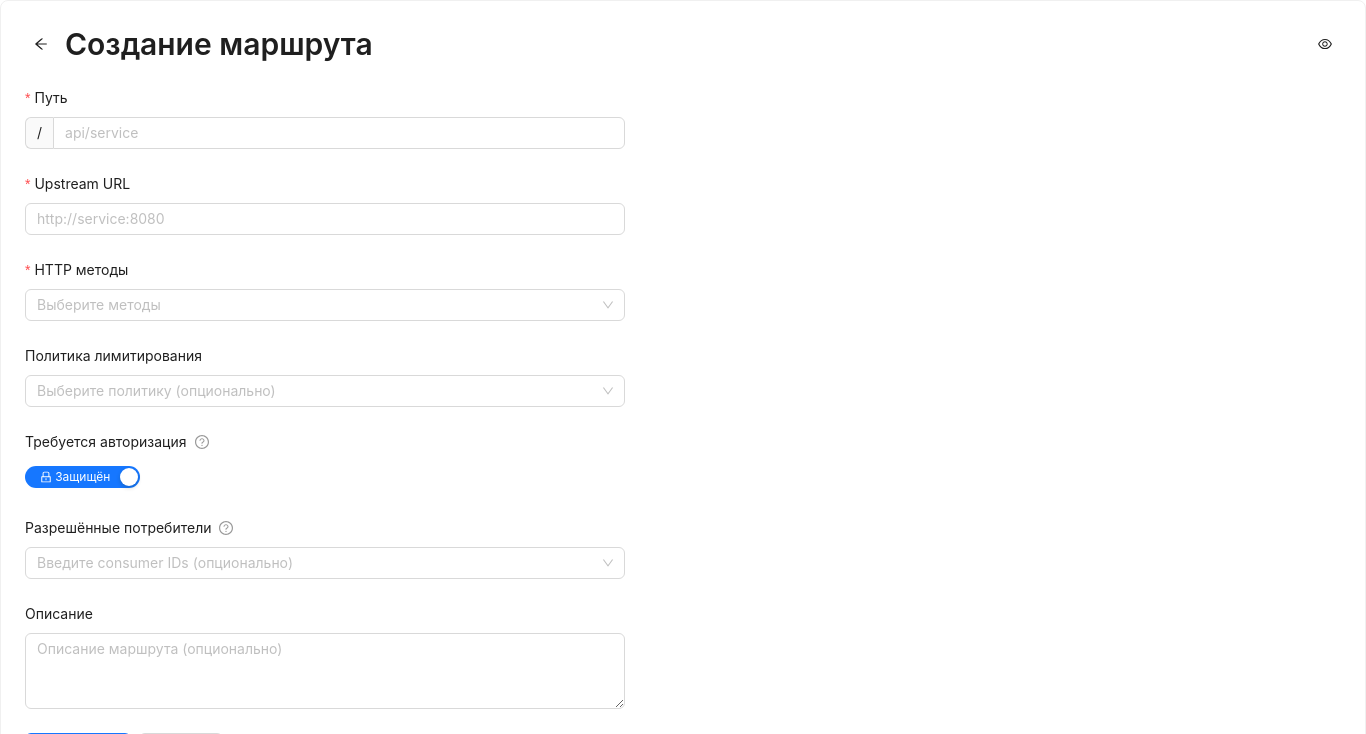
Test: RouteFormPage › валидация › показывает ошибку при невалидном URL формате
The width and height of the screenshot is (1366, 734).
In the field with placeholder "http://service:8080": (325, 219) [25,203,625,235], type "not-a-valid-url"
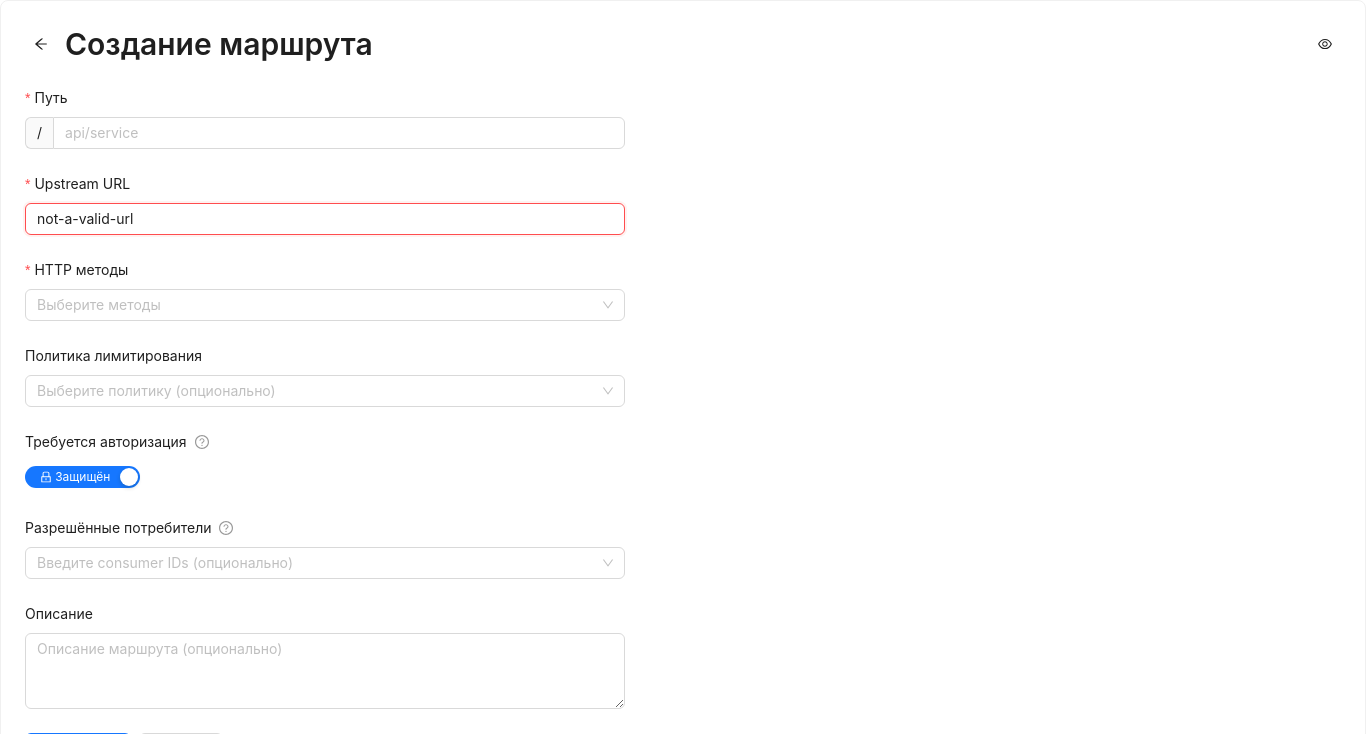
Leave the field with placeholder "http://service:8080", box [25,203,625,235]
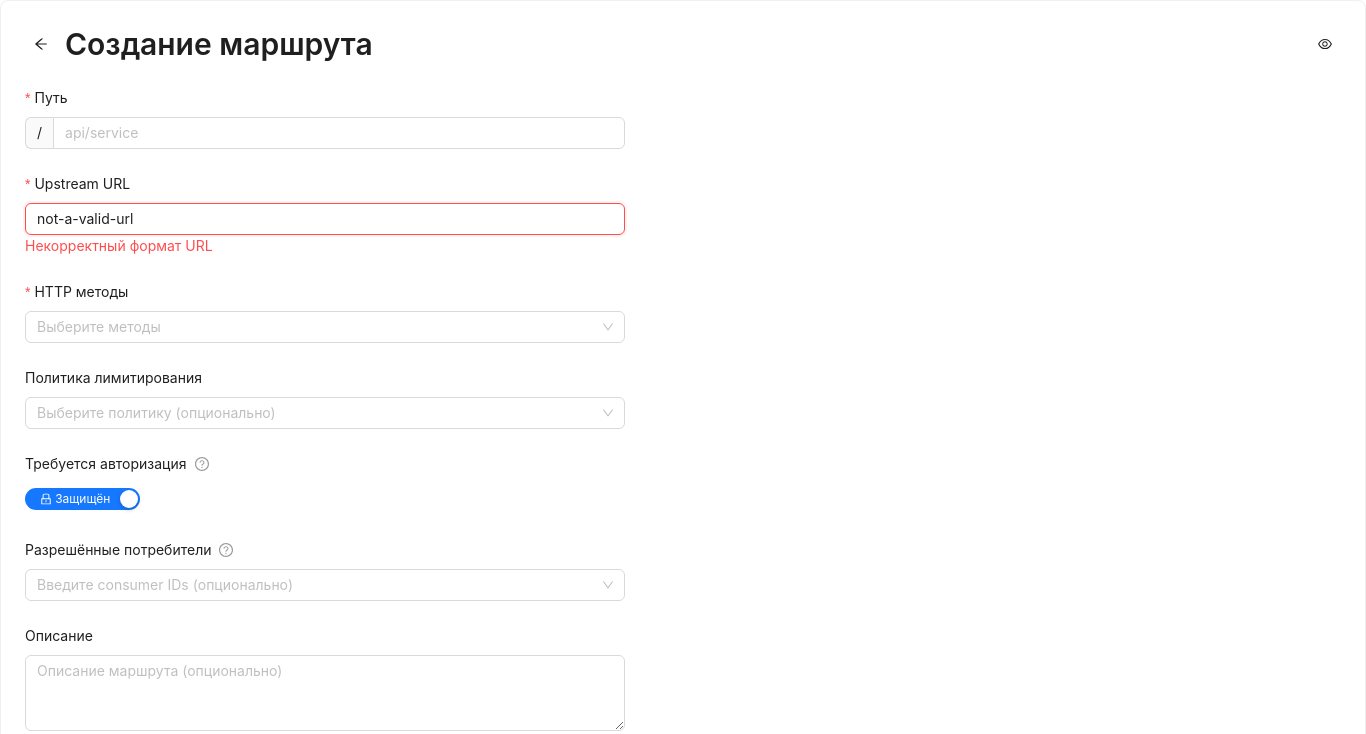
Now the text "Некорректный формат URL" is shown, box [25,237,213,254]
